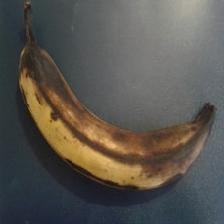Banana Rotten: (3, 2, 224, 204)
